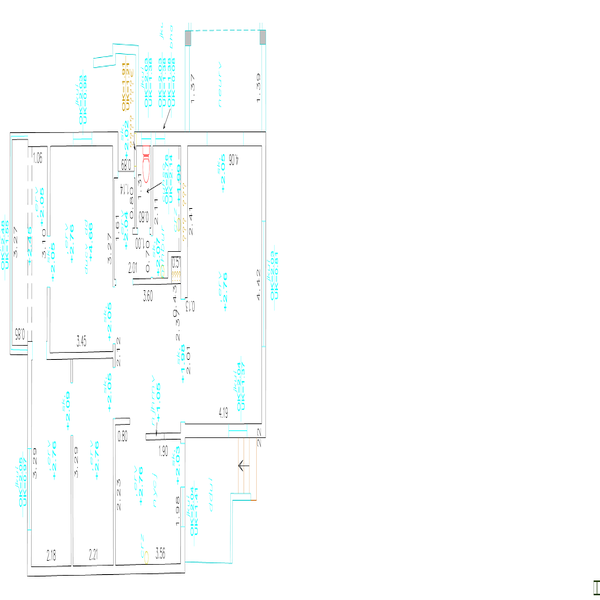wall: (258, 145, 277, 440), (129, 125, 266, 155), (177, 415, 274, 456), (24, 559, 189, 581), (22, 349, 37, 574), (62, 433, 83, 564), (8, 132, 116, 152), (111, 416, 119, 563), (46, 344, 119, 360), (42, 146, 54, 232), (43, 285, 57, 348)
